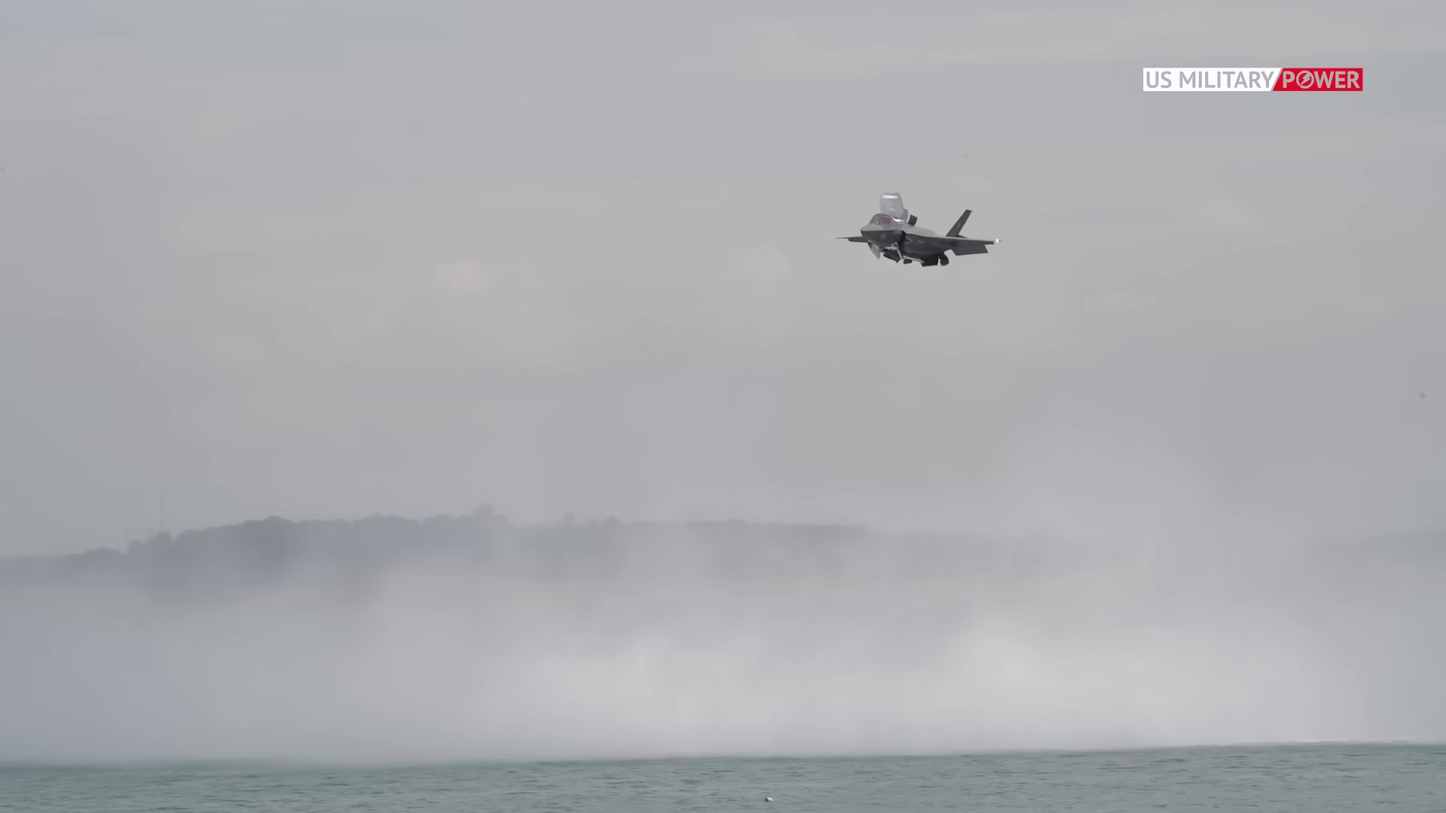F35: (837, 186, 1010, 276)
